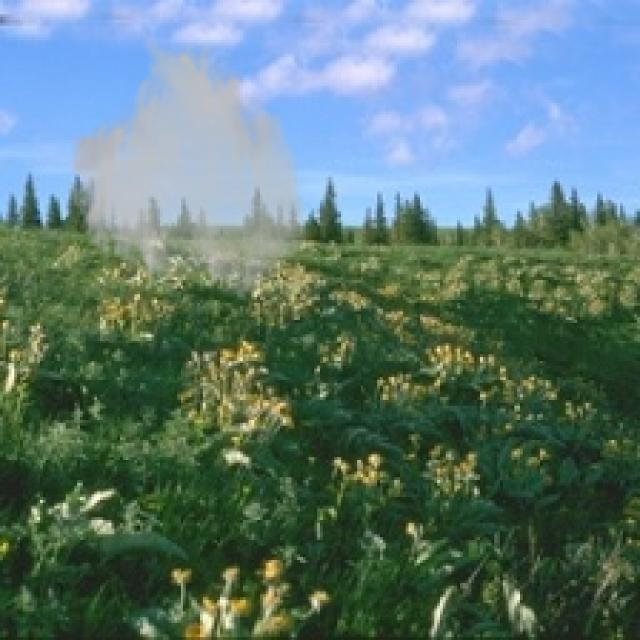smoke: (65, 31, 308, 300)
